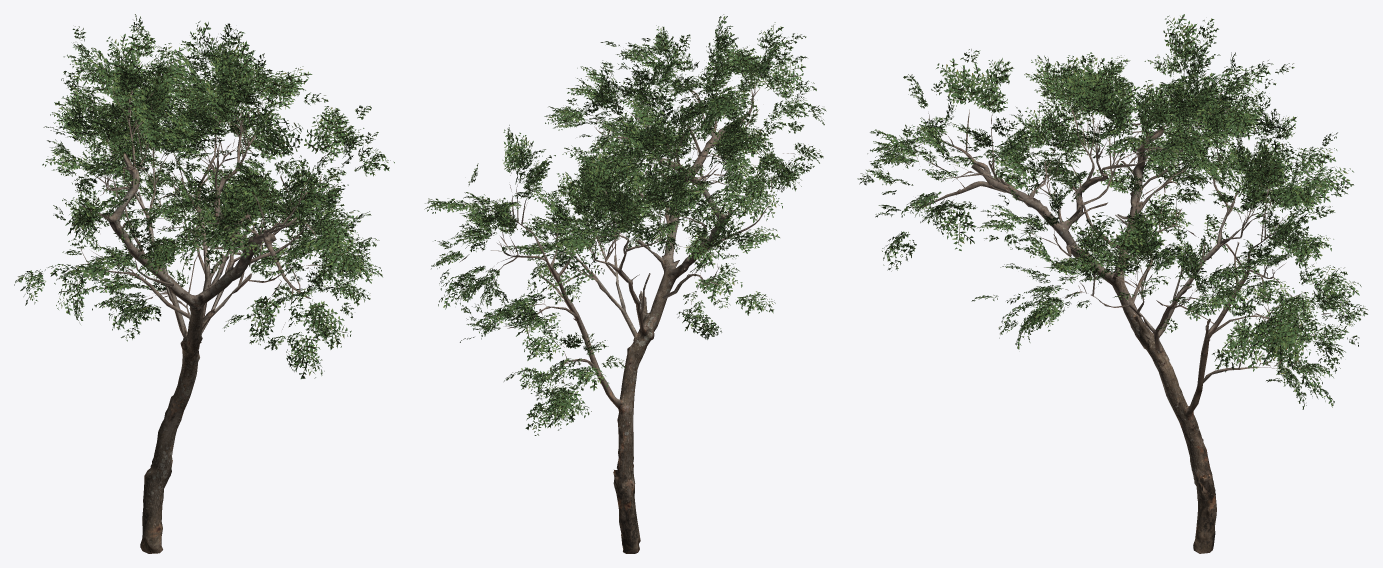
File: tree_small_02.glb
3 views of the same model, side by side, from view 1: azimuth 30°, elevation 25°; view 2: azimuth 150°, elevation 25°; view 3: azimuth 270°, elevation 25° (orthographic). The views are drawn at different scales.
Parts seen in each view (by area): view 1: tree_small_02_LOD0; view 2: tree_small_02_LOD0; view 3: tree_small_02_LOD0.
Part boxes in pixels (left/top/right/bottom): tree_small_02_LOD0: left=14, top=14, right=394, bottom=553; tree_small_02_LOD0: left=424, top=14, right=826, bottom=553; tree_small_02_LOD0: left=857, top=14, right=1367, bottom=553.
Bounding box in the file's own units: 2.92 × 4.56 × 4.26.
Materials: 3 (3 with a texture image).
